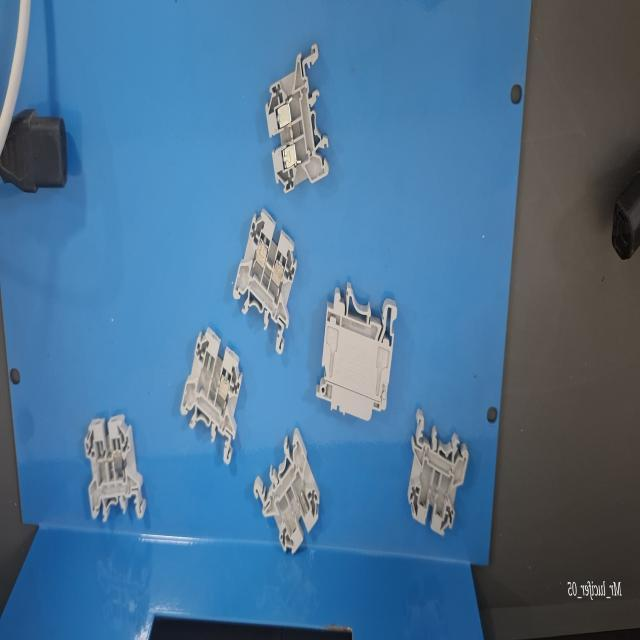Pass: (262, 41, 331, 199), (234, 207, 298, 356)
Reject: (180, 325, 242, 469), (258, 426, 320, 562), (406, 405, 468, 535), (84, 416, 146, 526)
